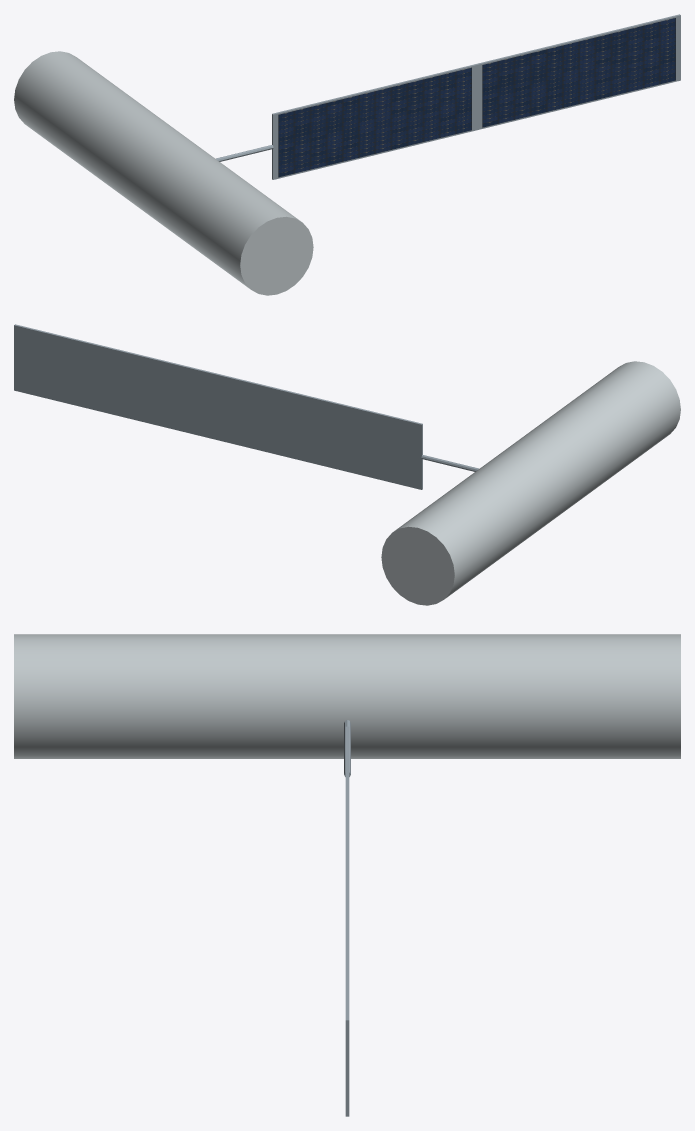
The model's file is ref-astex-5560.glb.
3 renders of one model, top to bottom at view 1: azimuth 30°, elevation 25°; view 2: azimuth 150°, elevation 25°; view 3: azimuth 270°, elevation 25°, orthographic. The views are drawn at different scales.
Visible parts, largest first — view 1: Spacecraft body, Photovoltaic laminates (×2), Array frame (×2); view 2: Spacecraft body, Array frame (×2); view 3: Spacecraft body, Array frame (×2).
Boxes of the visible parts, x1=… form: Spacecraft body: x1=14, y1=51, x2=313, y2=295; Photovoltaic laminates (×2): x1=278, y1=18, x2=675, y2=177; Array frame (×2): x1=272, y1=14, x2=680, y2=179; Spacecraft body: x1=381, y1=361, x2=680, y2=605; Array frame (×2): x1=14, y1=324, x2=422, y2=489; Spacecraft body: x1=14, y1=634, x2=680, y2=758; Array frame (×2): x1=345, y1=726, x2=349, y2=1116.
Size of the model in its own units: 11.3 by 1.5 by 8.
Materials: 3 (1 with a texture image).
